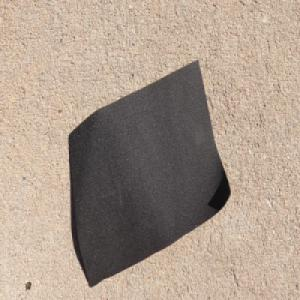PaintChip: (67, 57, 231, 288)
